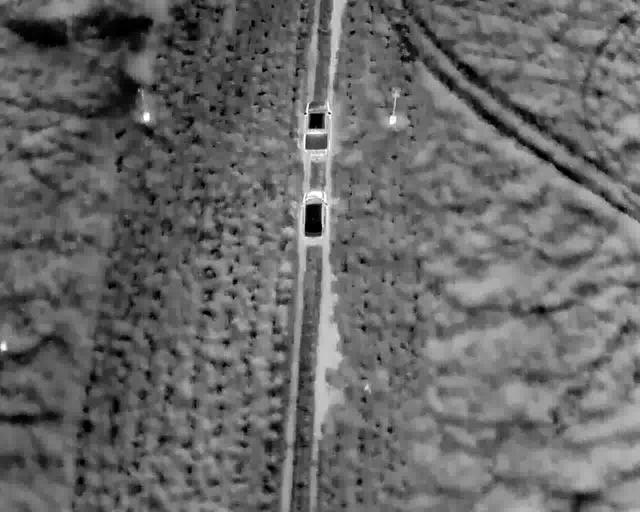car: (303, 100, 331, 159), (299, 191, 328, 238)
